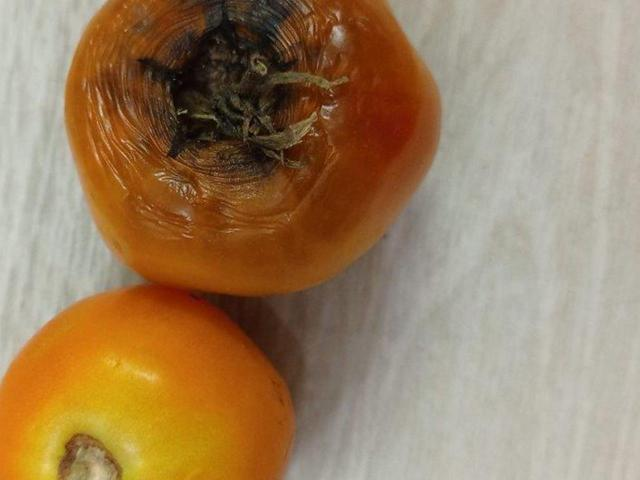defect: (64, 0, 444, 294)
